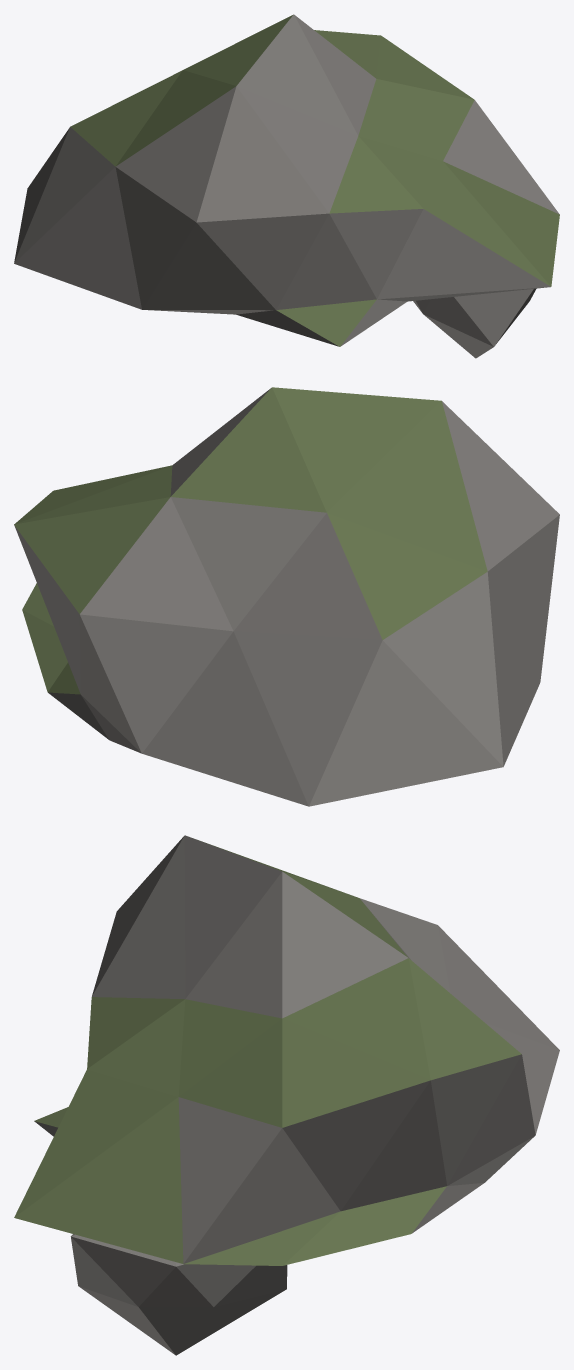
Rendered from rock_b.glb.
3 views of the same model, one above another, from view 1: azimuth 30°, elevation 25°; view 2: azimuth 150°, elevation 25°; view 3: azimuth 270°, elevation 25° (orthographic). The views are drawn at different scales.
Parts seen in each view (by area): view 1: rock_b; view 2: rock_b; view 3: rock_b.
Boxes of the visible parts, bbox=[...] form: rock_b: bbox=[14, 14, 559, 358]; rock_b: bbox=[14, 387, 559, 806]; rock_b: bbox=[14, 835, 559, 1355].
Bounding box in the file's own units: 2.35 × 1.69 × 2.06.
